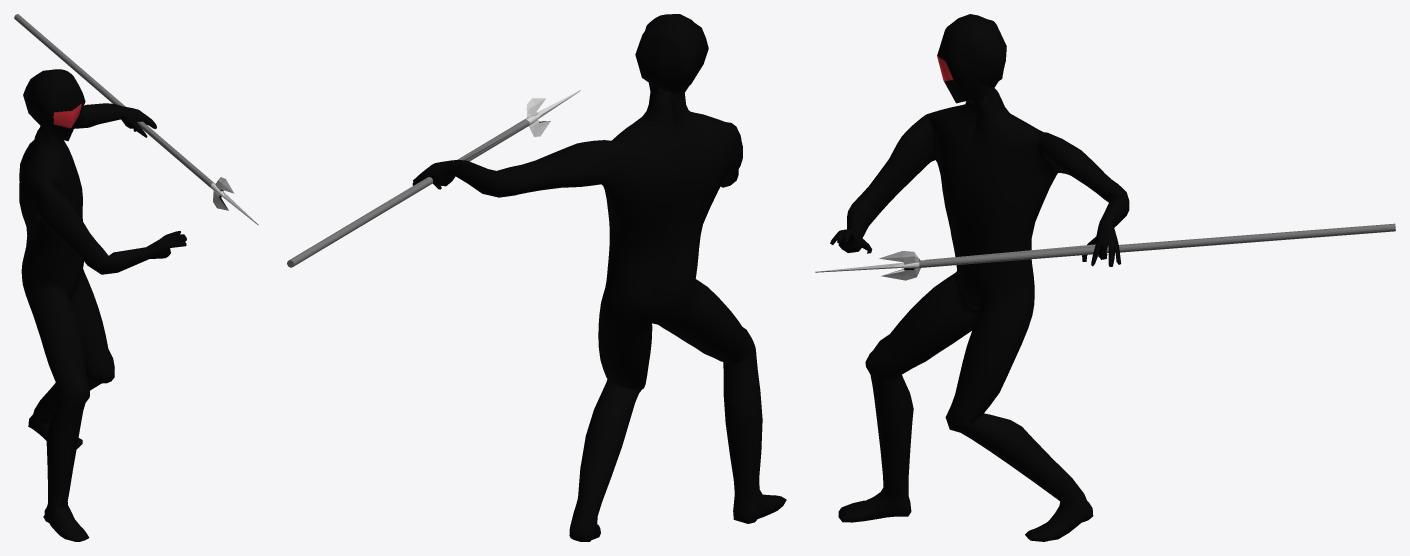
The model's file is boss_rush_befor.obj.
3 views of the same model, side by side, from view 1: azimuth 30°, elevation 25°; view 2: azimuth 150°, elevation 25°; view 3: azimuth 270°, elevation 25° (orthographic). The views are drawn at different scales.
Visible parts, largest first — view 1: Cube_Cube.001; view 2: Cube_Cube.001; view 3: Cube_Cube.001.
Part boxes in pixels (x1,y1,x2,y2): Cube_Cube.001: (14, 14, 258, 541); Cube_Cube.001: (287, 14, 786, 541); Cube_Cube.001: (815, 14, 1395, 541).
Bounding box in the file's own units: 3.19 × 6.73 × 6.83.
1 material, 1 textured.
